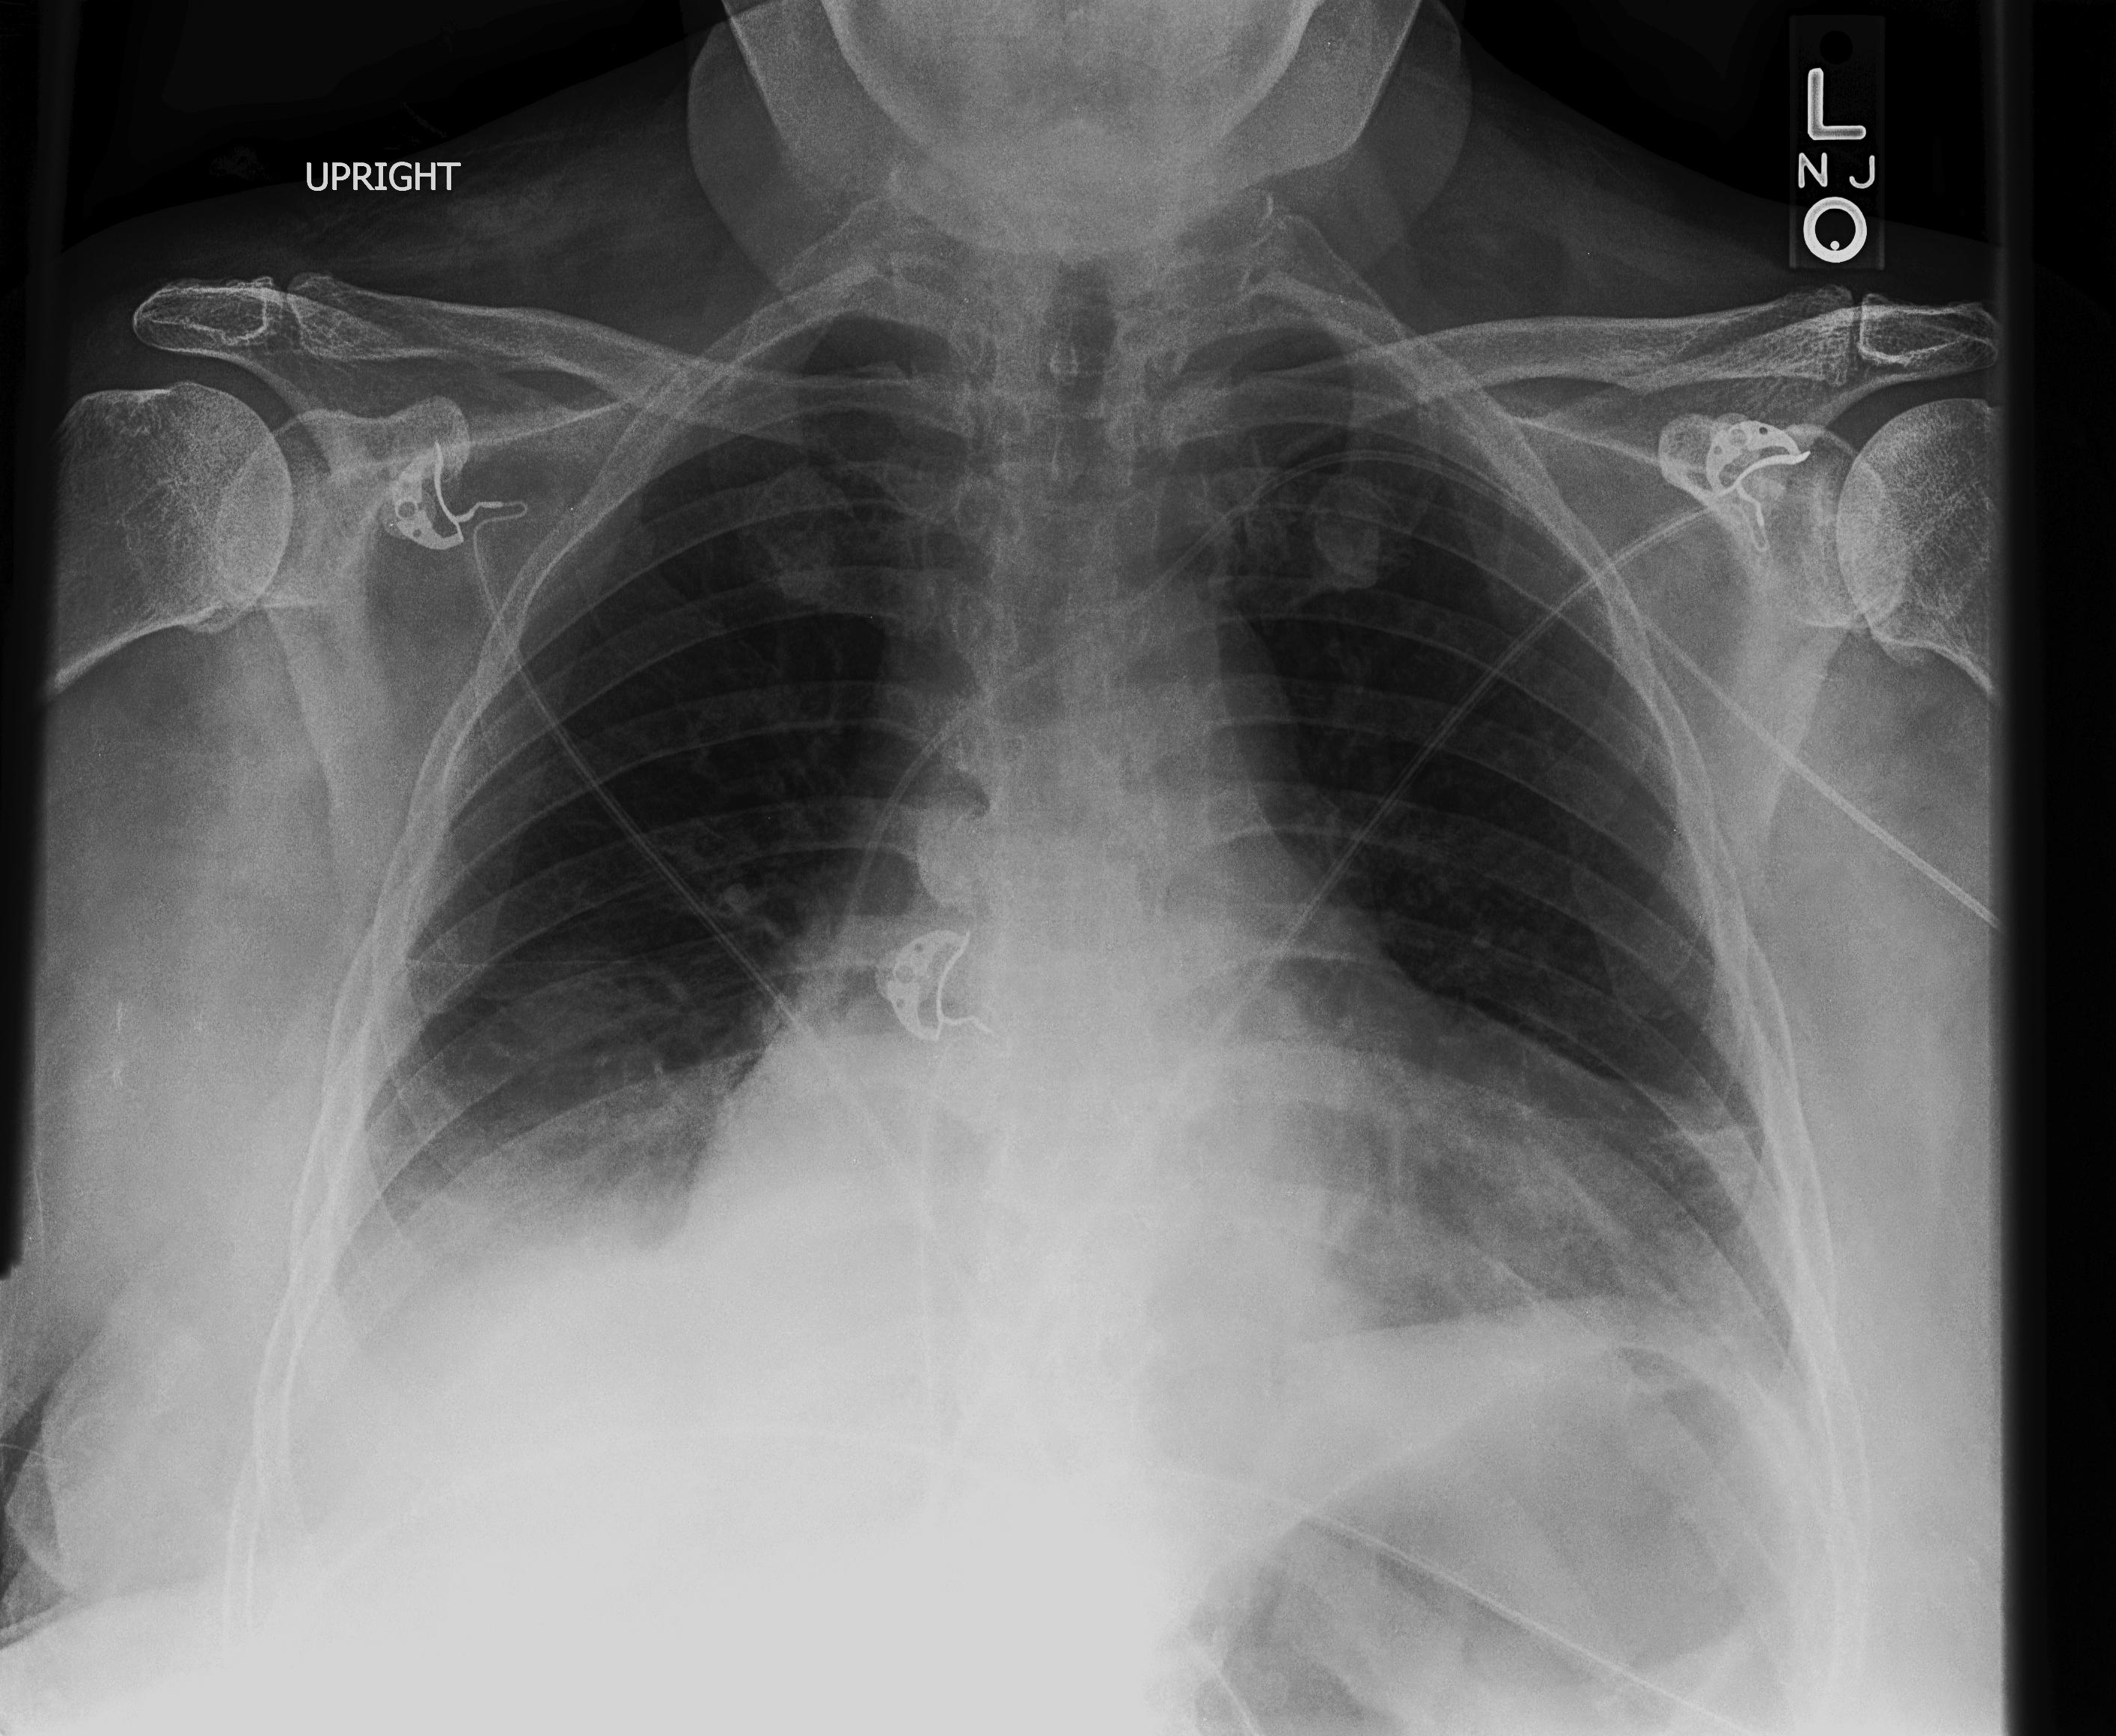Pleural Effusion: (262, 1156, 619, 1501)
